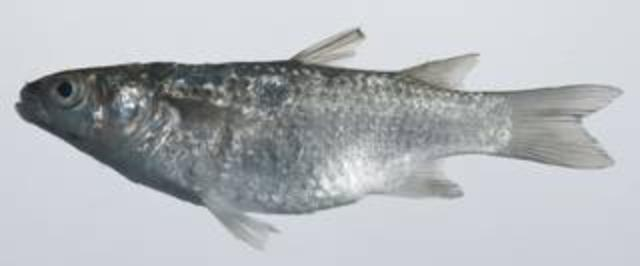Mulut: (8, 70, 42, 125)
Sirip Anal: (362, 136, 476, 208)
Sirip Dada: (161, 85, 261, 142)
Sirip Ekor: (503, 74, 633, 174)
Sirip Perut: (198, 174, 286, 256)
Sirip Punggung: (292, 17, 484, 96)
